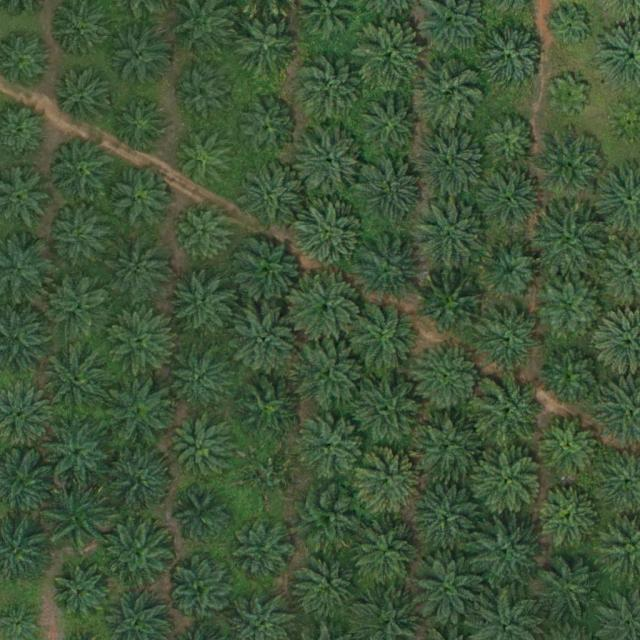Healthy: (416, 129, 487, 200), (236, 160, 307, 231), (231, 235, 302, 306), (230, 307, 301, 378), (536, 553, 607, 624), (417, 201, 487, 272), (354, 20, 425, 90), (355, 95, 426, 165), (353, 232, 423, 303), (419, 270, 489, 341), (297, 126, 367, 197), (294, 202, 364, 273), (105, 164, 175, 235), (47, 137, 117, 208), (42, 485, 113, 555), (232, 374, 303, 444), (295, 412, 365, 483), (294, 487, 364, 558), (347, 302, 417, 373), (354, 375, 424, 446), (355, 447, 425, 518), (414, 343, 484, 414), (411, 414, 482, 484), (416, 480, 486, 551), (475, 376, 545, 447), (473, 446, 543, 517), (536, 132, 606, 202), (536, 208, 606, 278), (479, 24, 549, 94), (475, 168, 545, 238), (414, 59, 484, 129), (356, 159, 426, 229), (297, 54, 367, 124), (107, 235, 177, 305), (43, 345, 113, 415), (42, 417, 112, 487), (106, 307, 176, 377), (105, 379, 175, 449), (107, 448, 177, 518), (291, 274, 361, 344), (294, 339, 364, 409), (472, 518, 542, 588), (414, 555, 484, 625), (352, 520, 422, 590), (104, 518, 174, 588), (235, 99, 298, 162), (542, 276, 605, 339), (235, 519, 298, 582), (480, 241, 542, 304), (172, 126, 235, 188), (108, 27, 170, 90), (48, 205, 110, 268), (49, 274, 111, 337), (173, 271, 235, 334), (166, 349, 228, 412), (172, 424, 234, 487), (171, 484, 233, 547), (543, 344, 605, 407), (539, 486, 602, 548), (294, 557, 356, 620), (170, 559, 232, 622), (235, 18, 297, 80), (482, 307, 544, 369), (542, 416, 604, 478), (245, 451, 300, 507), (483, 112, 538, 167), (173, 69, 228, 124), (55, 73, 110, 128), (54, 567, 109, 622), (178, 206, 232, 261), (110, 98, 164, 153)
Small: (553, 7, 593, 47), (550, 77, 590, 116)
